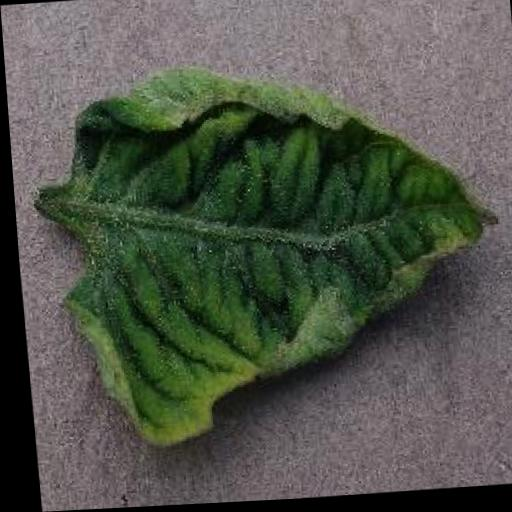Yellow Leaf Curl Virus: (41, 56, 511, 457)
